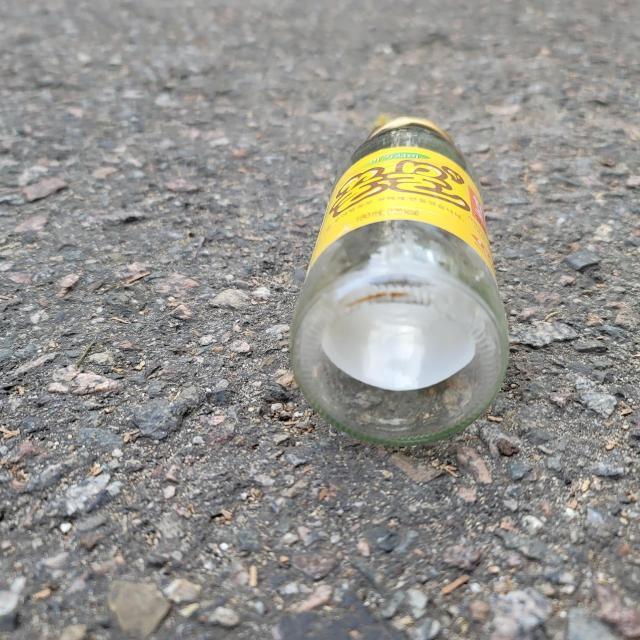glass: (291, 117, 509, 445)
